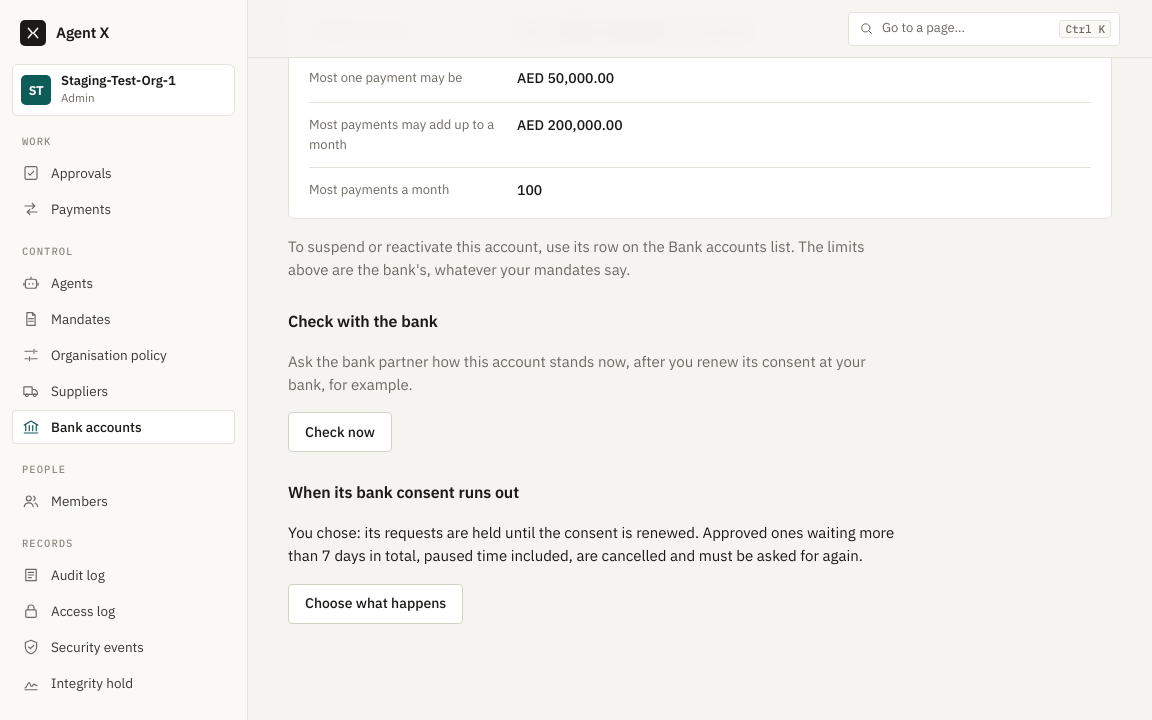
checking an account with the bank (6D4a) › asks the partner with no body, and says it is done
(page scrolled)
Click the button "Check now".
click(340, 432)  # box x1=288 y1=412 x2=392 y2=452
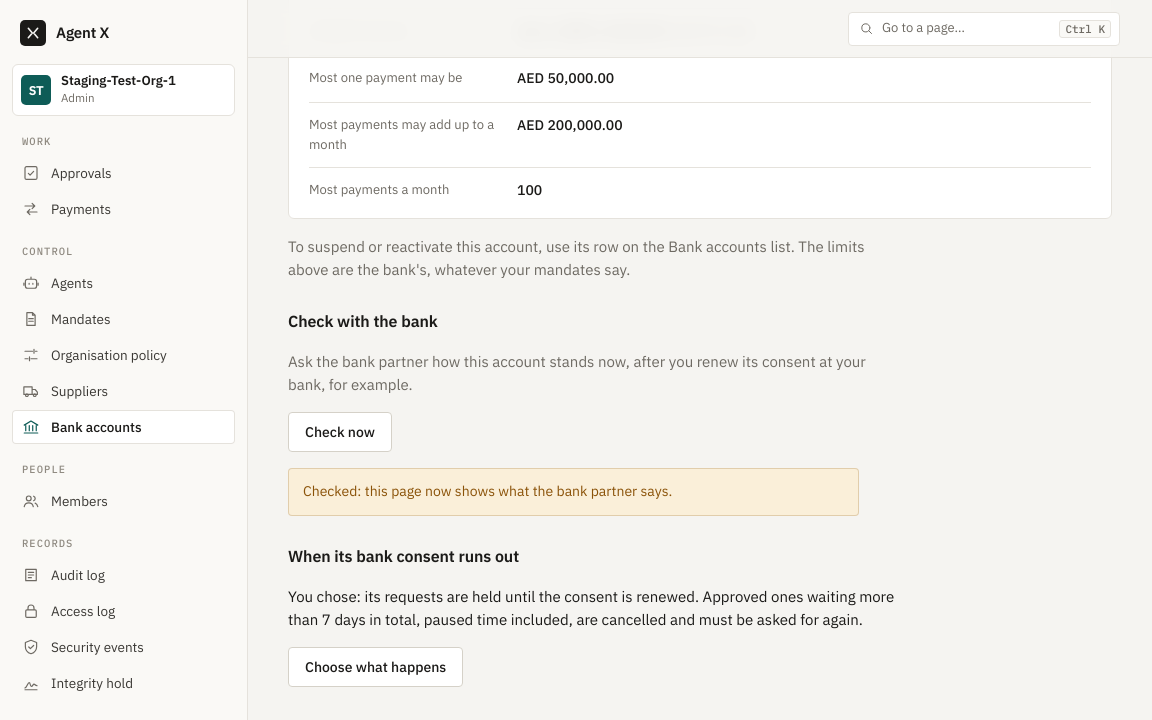
Expected: the text "Checked: this page now shows what the bank partner says." is shown, x1=288 y1=468 x2=859 y2=516
